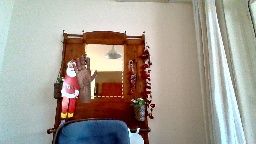Mano_aperta: (70, 53, 98, 87)
